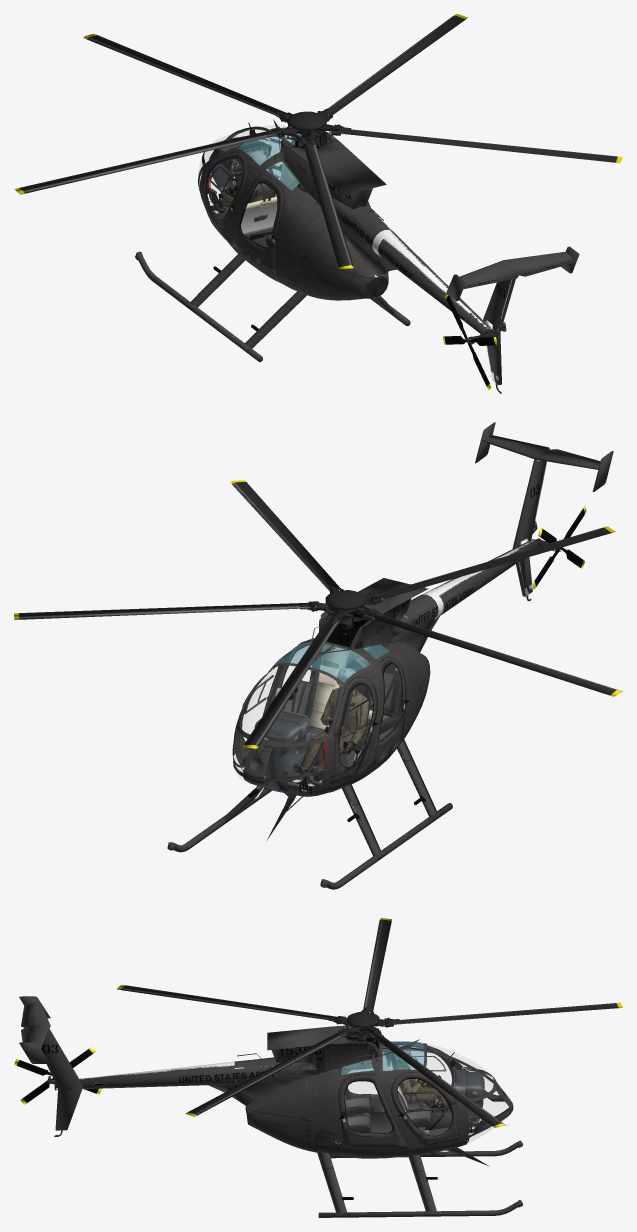
3 views of the same model, one above another, from view 1: azimuth 30°, elevation 25°; view 2: azimuth 150°, elevation 25°; view 3: azimuth 270°, elevation 25° (orthographic). The views are drawn at different scales.
Parts seen in each view (by area): view 1: ext_fuse1.001, rotor_main, ext_fuse1, ext_fuse1_doors, ext_skids, glasss_grn, int_seats2, int_console, rotor_tail, ext_fuse1.005, int_pilotR, int_fuse2; view 2: rotor_main, ext_fuse1.001, ext_fuse1, ext_fuse1_doors, ext_skids, int_seats1, int_console, int_pilotR, glasss_grn, int_fuse3, ext_fuse1.005, glass (+4 smaller); view 3: ext_fuse1.001, rotor_main, ext_fuse1, ext_fuse1_doors, ext_skids, int_seats1, glass, ext_fuse1.002, int_console, glasss_grn, ext_fuse1.005, int_pilotR (+4 smaller).
Boxes of the visible parts, x1,y1,x2,y2 form: ext_fuse1.001: [288, 149, 579, 393]; rotor_main: [14, 14, 622, 269]; ext_fuse1: [198, 119, 347, 282]; ext_fuse1_doors: [204, 152, 283, 273]; ext_skids: [135, 251, 410, 362]; glasss_grn: [238, 128, 301, 190]; int_seats2: [233, 196, 277, 239]; int_console: [207, 139, 271, 194]; rotor_tail: [443, 294, 497, 390]; ext_fuse1.005: [200, 134, 311, 280]; int_pilotR: [209, 150, 277, 221]; int_fuse2: [198, 128, 285, 197]; rotor_main: [14, 480, 622, 748]; ext_fuse1.001: [358, 422, 613, 732]; ext_fuse1: [233, 604, 412, 798]; ext_fuse1_doors: [239, 642, 409, 783]; ext_skids: [167, 739, 452, 889]; int_seats1: [283, 662, 402, 754]; int_console: [254, 709, 326, 791]; int_pilotR: [293, 668, 369, 781]; glasss_grn: [274, 638, 389, 682]; int_fuse3: [309, 644, 370, 729]; ext_fuse1.005: [234, 640, 412, 783]; glass: [234, 666, 310, 781]; ext_fuse1.001: [19, 996, 331, 1152]; rotor_main: [117, 918, 622, 1127]; ext_fuse1: [324, 1025, 513, 1149]; ext_fuse1_doors: [338, 1043, 458, 1149]; ext_skids: [317, 1140, 522, 1217]; int_seats1: [344, 1058, 431, 1132]; glass: [348, 1044, 508, 1143]; ext_fuse1.002: [325, 1137, 489, 1166]; int_console: [425, 1069, 484, 1132]; glasss_grn: [341, 1041, 424, 1074]; ext_fuse1.005: [325, 1042, 469, 1149]; int_pilotR: [394, 1043, 449, 1108].
Size of the model in its own units: 7.48 by 2.89 by 9.2.
Materials: 13 (12 with a texture image).
